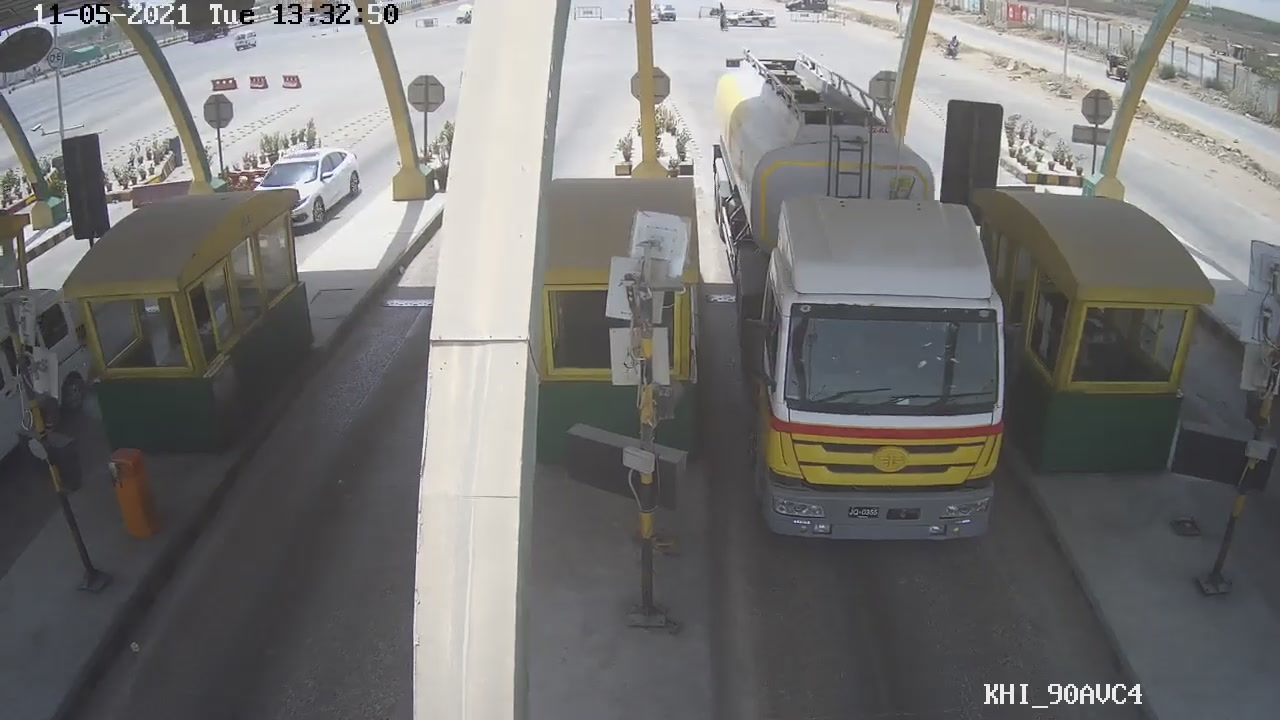F6: (705, 58, 1014, 533)
